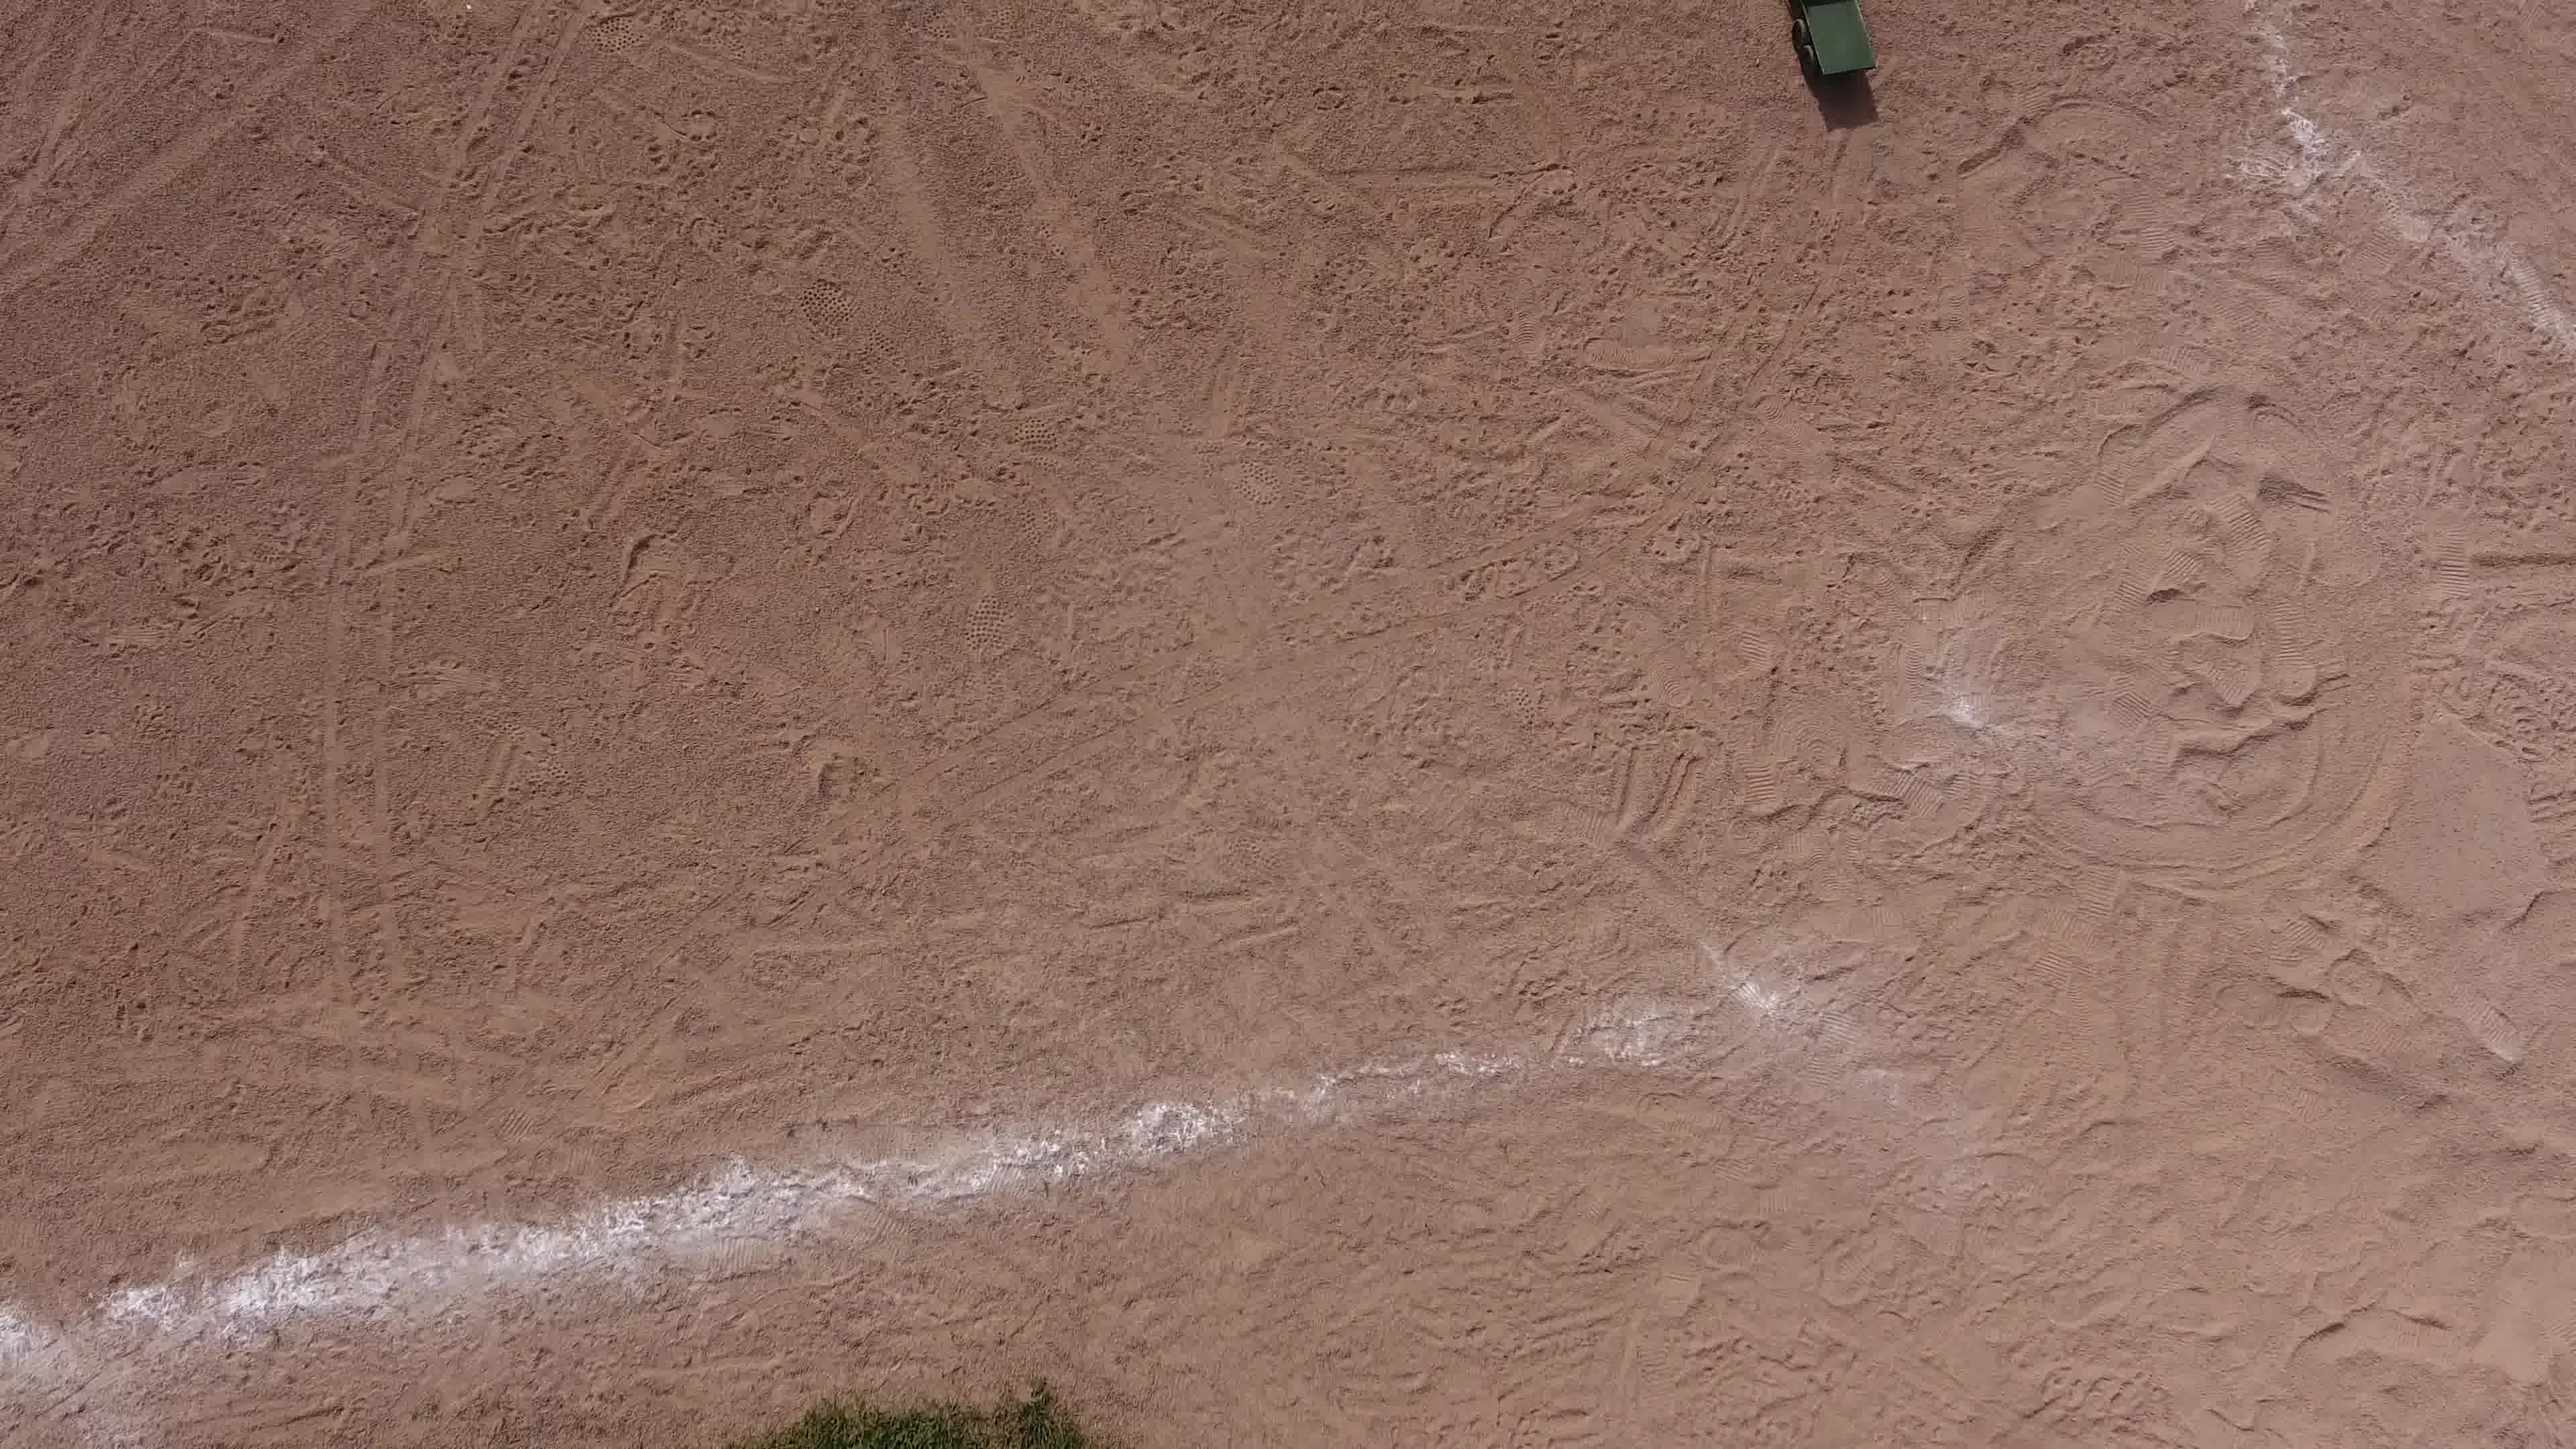transporter9: (1767, 0, 1891, 115)
